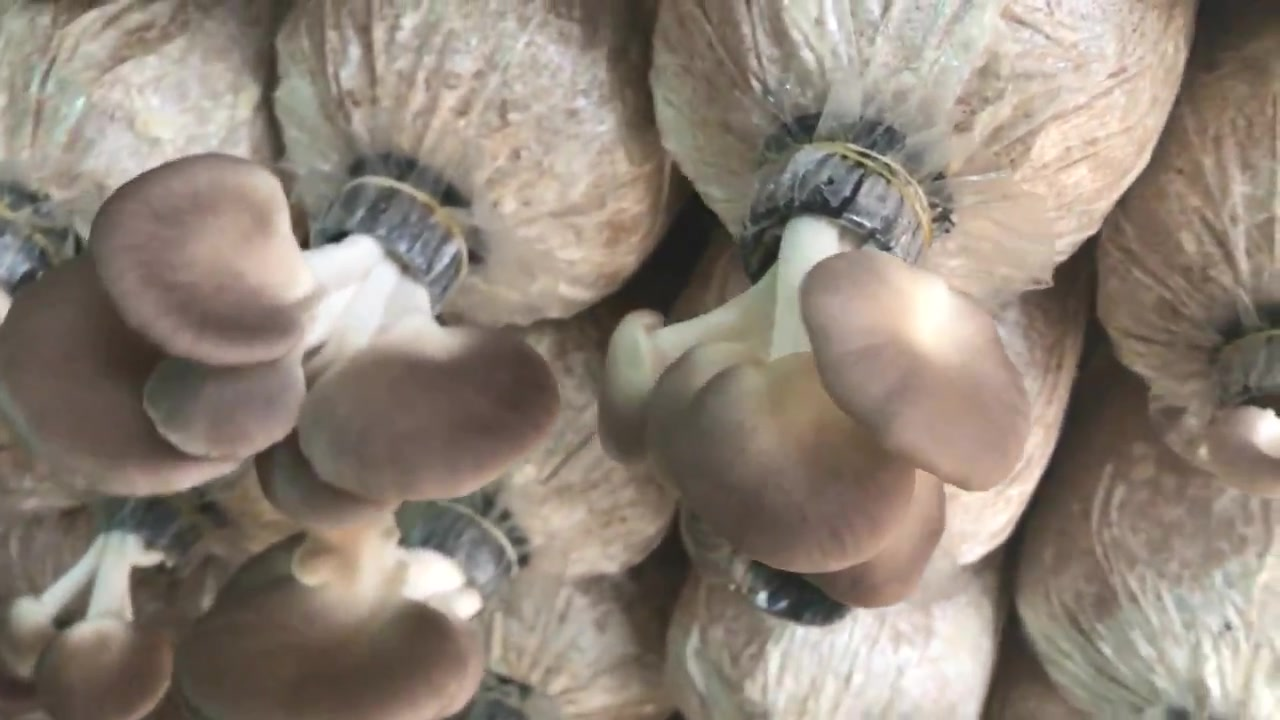nam: (1, 138, 555, 517), (598, 155, 1032, 602), (183, 510, 512, 720), (1, 504, 170, 719), (1206, 330, 1279, 488)
